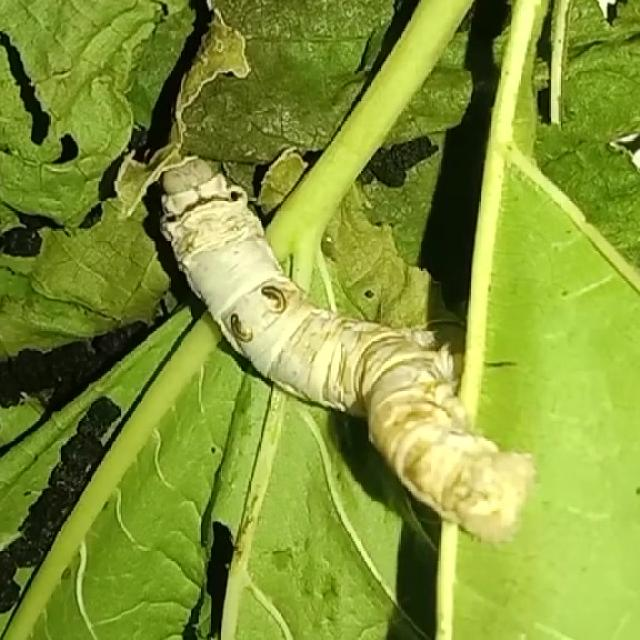Grasserie: (112, 92, 560, 559)
